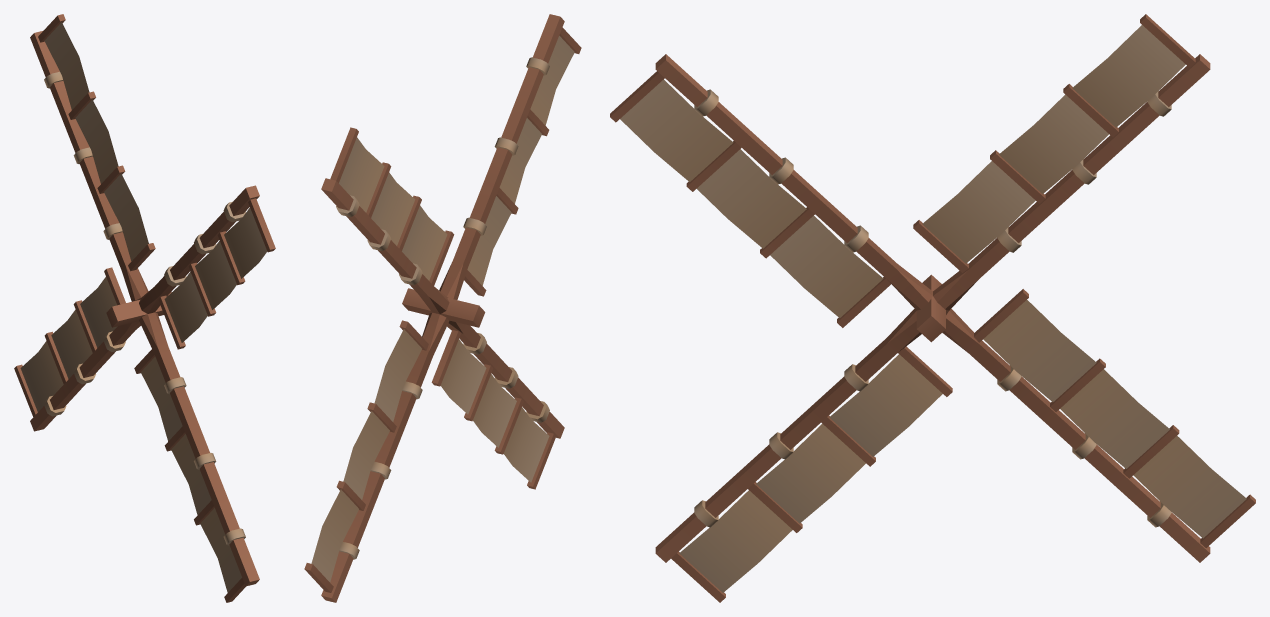
The model's file is windmill.glb.
The picture shows the model from 3 angles, left to right: view 1: azimuth 30°, elevation 25°; view 2: azimuth 150°, elevation 25°; view 3: azimuth 270°, elevation 25°; orthographic projection. The views are drawn at different scales.
Visible parts, largest first — view 1: windmill; view 2: windmill; view 3: windmill.
Part boxes in pixels (box(x1,y1,x2,y2)): windmill: box(14, 14, 275, 602); windmill: box(304, 14, 581, 602); windmill: box(610, 14, 1255, 602).
Size of the model in its own units: 0.471 by 3.11 by 3.11.
Materials: 1 (1 with a texture image).
